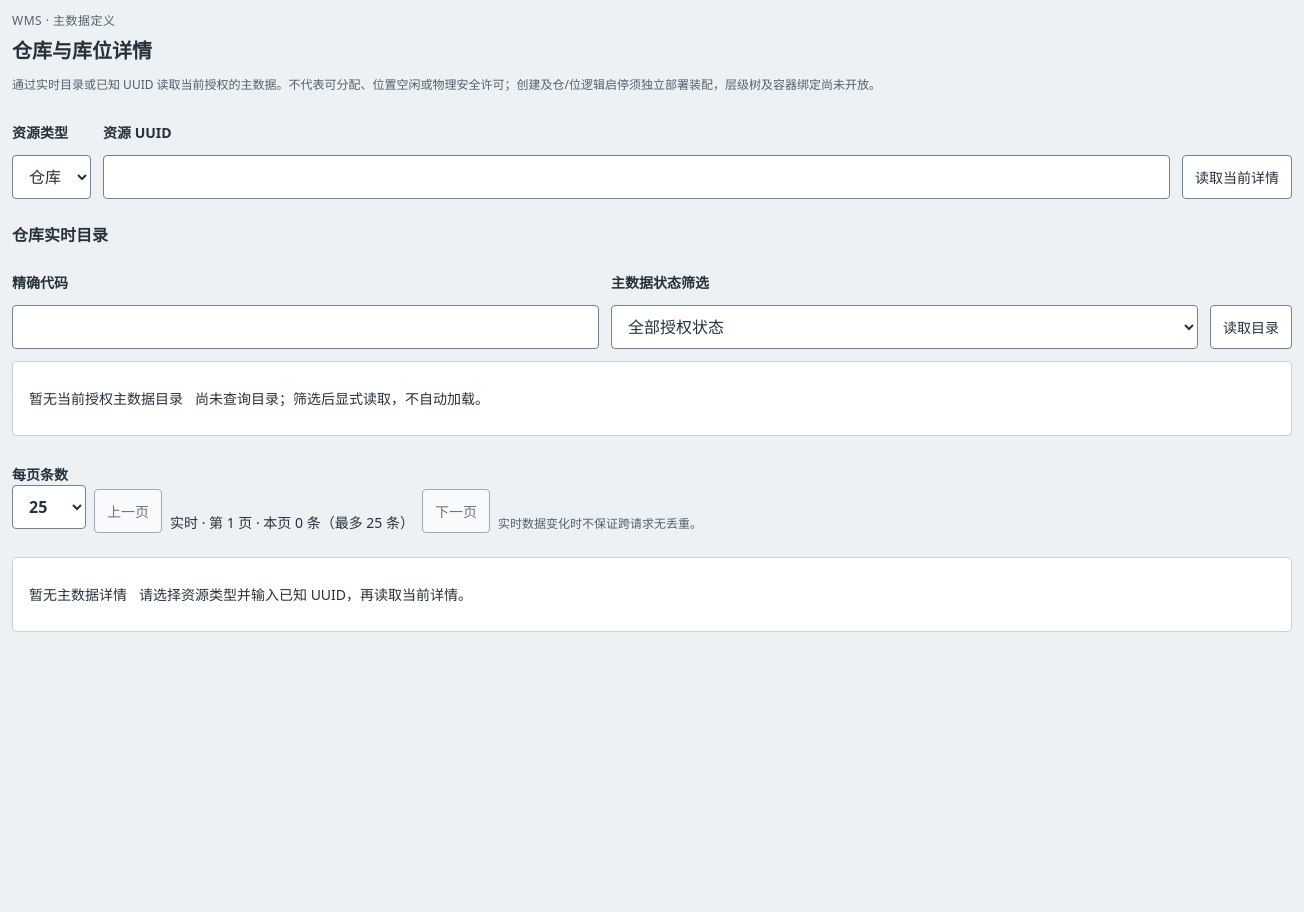
selects the location boundary and displays complete pinned lineage
Select "库位" in the dropdown named "resourceKind". click: (52, 177)
box: [12, 155, 91, 199]
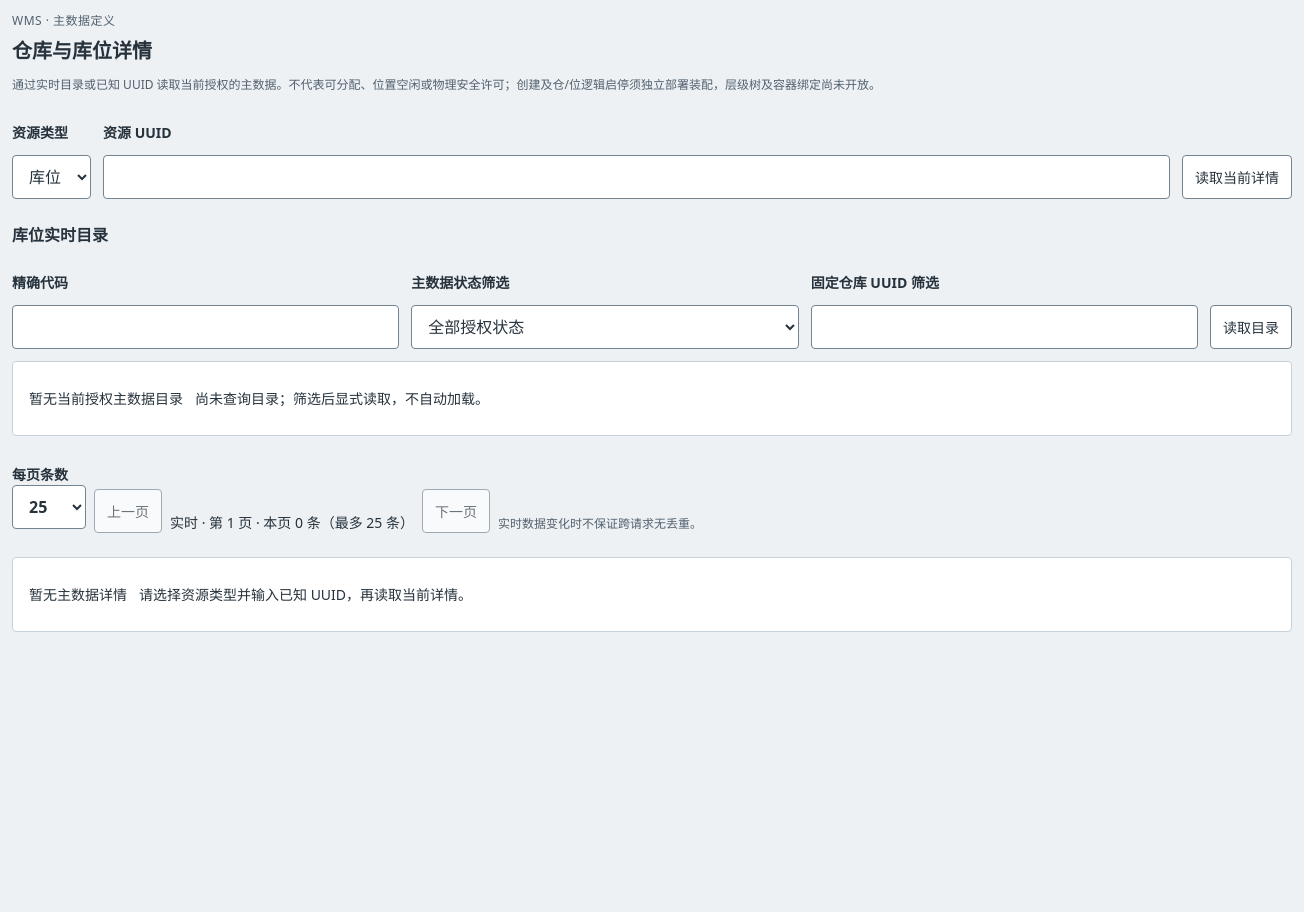
Type "77966ccd-f1dd-412d-8e45-adb475608842" into the field named "resourceId". click: (636, 177)
box: [103, 155, 1170, 199]
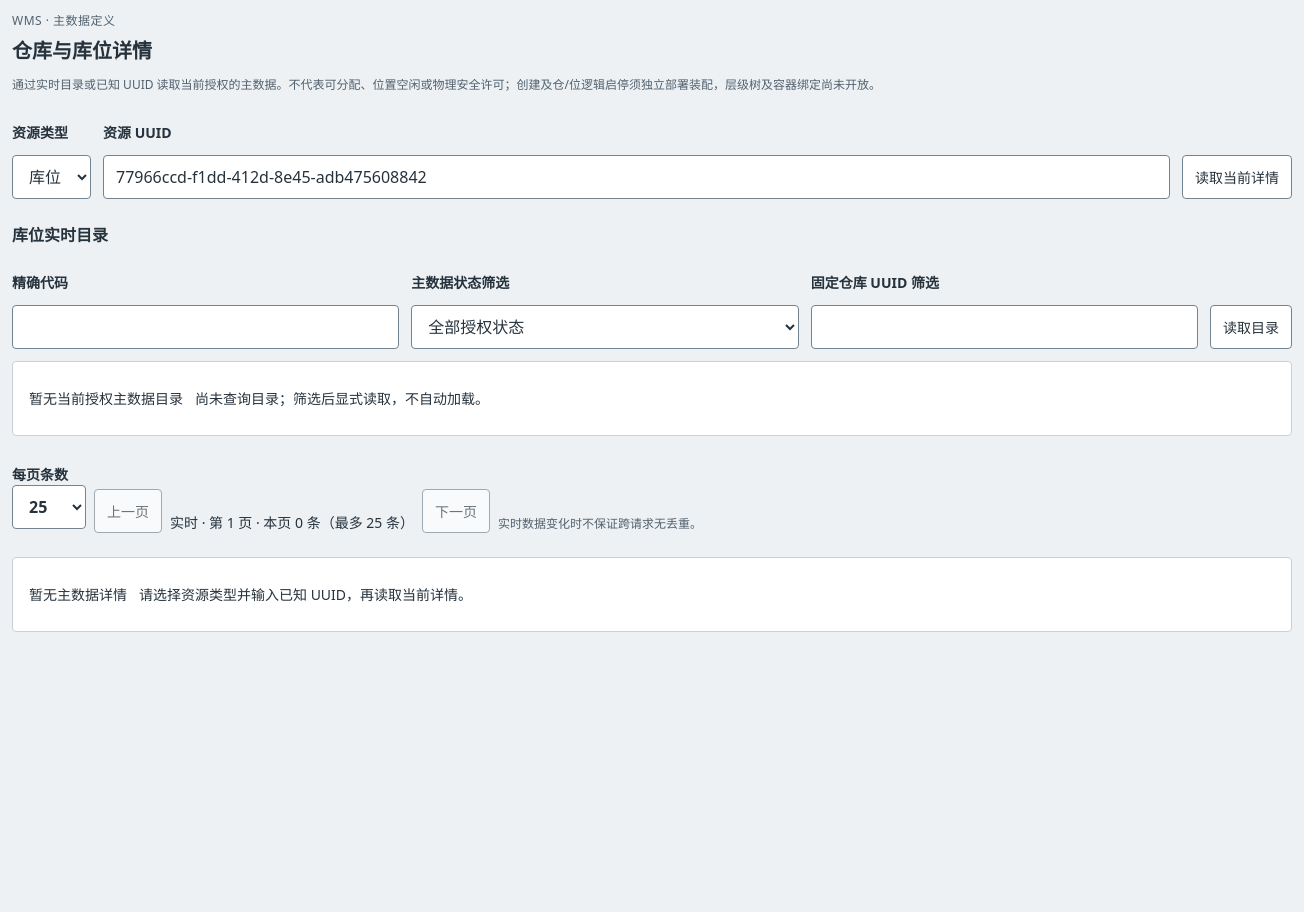
Submit the form "资源类型 资源 UUID 读取当前详情", box [12, 110, 1292, 199]
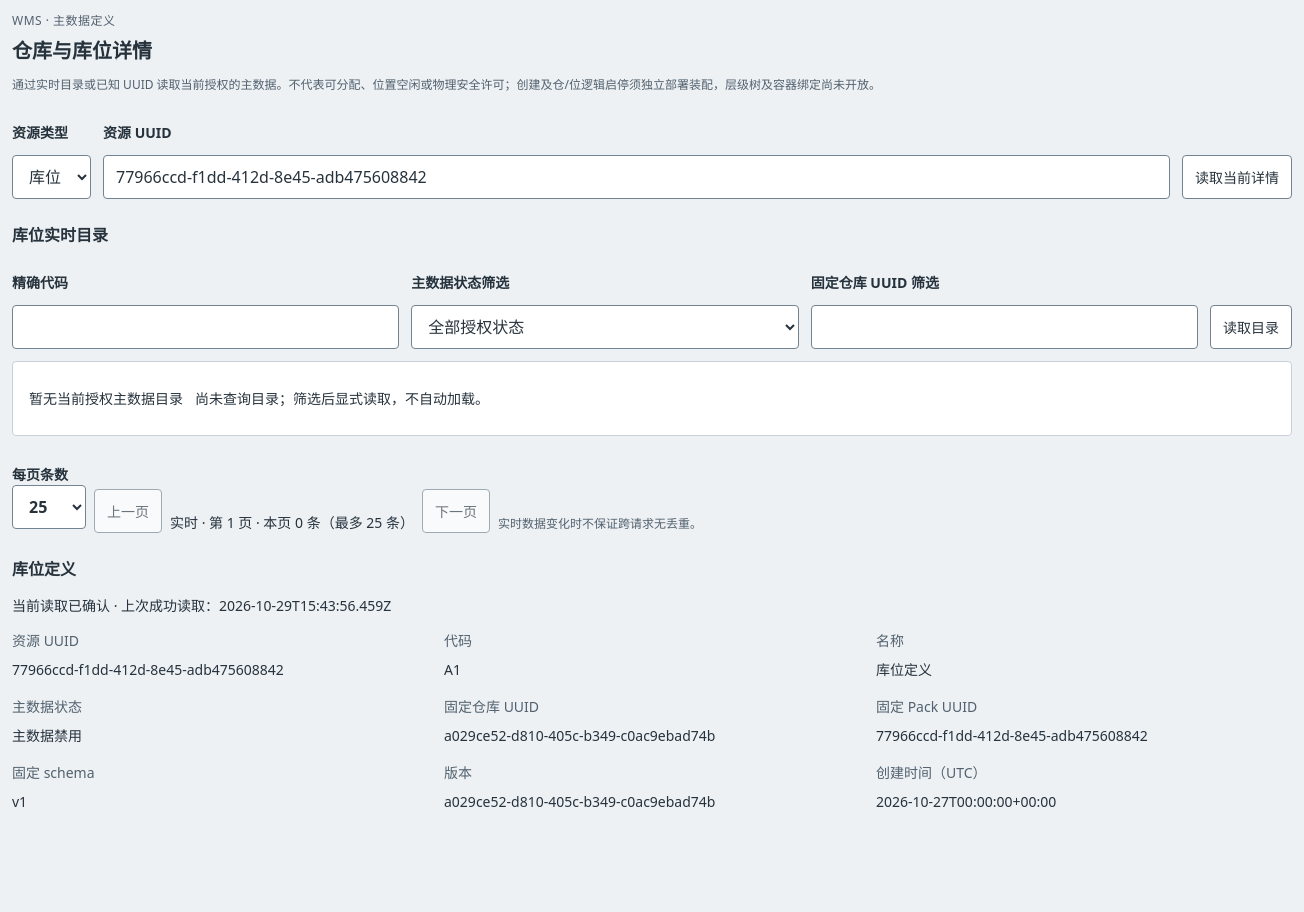
expect the element with test id "master-data-details" shows "v1": met, box [12, 792, 27, 811]
expect the text "Pack" is shown: met, box [876, 697, 977, 716]
